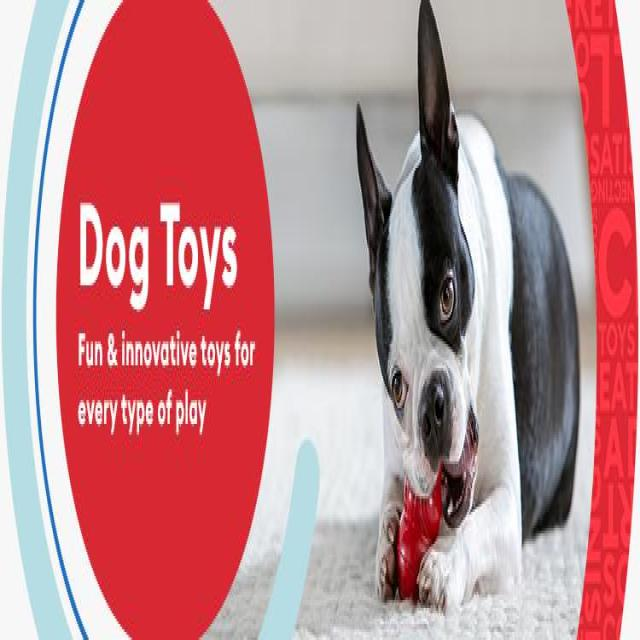dog: (352, 25, 564, 630)
